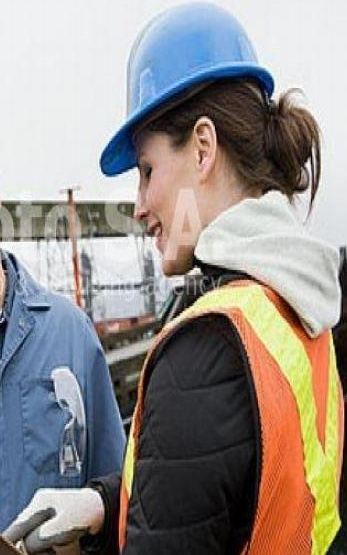gloves: (0, 485, 104, 555)
hard-hat: (99, 0, 275, 176)
ppe-suit: (0, 249, 145, 555)
vest: (115, 241, 347, 555)
